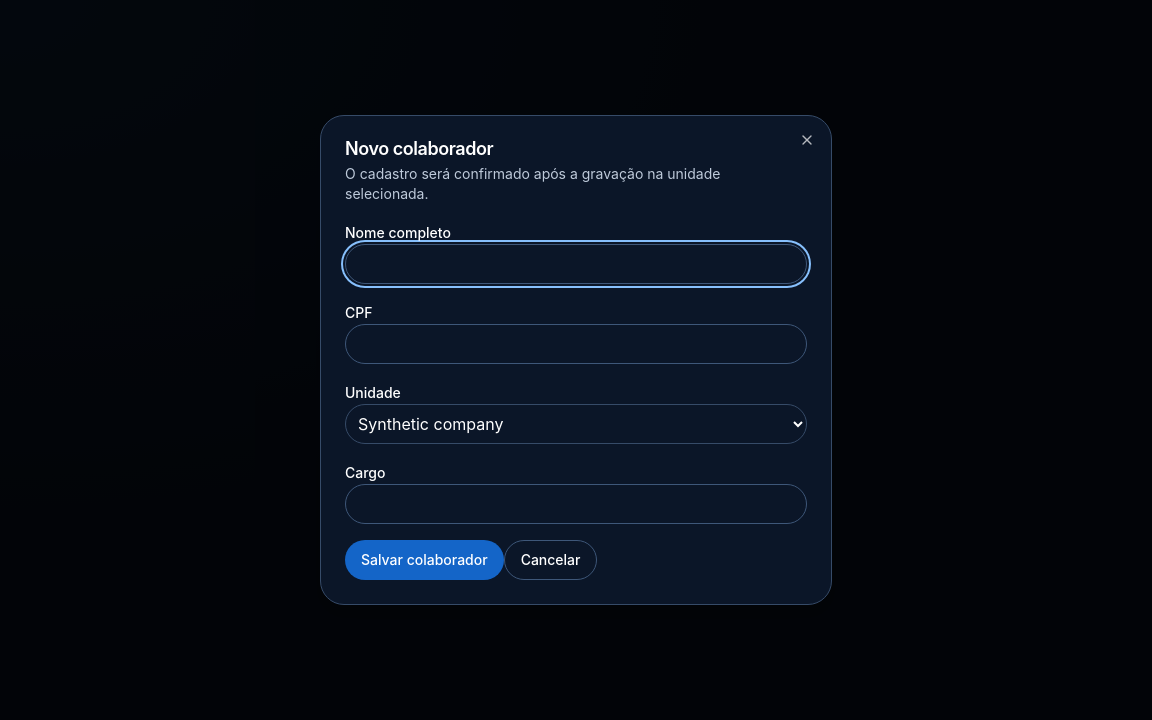
Test: rejects repeated-digit CPF before persistence
In the field with id "employee-name": (576, 264) [345,244,807,284], type "Pessoa sintética"
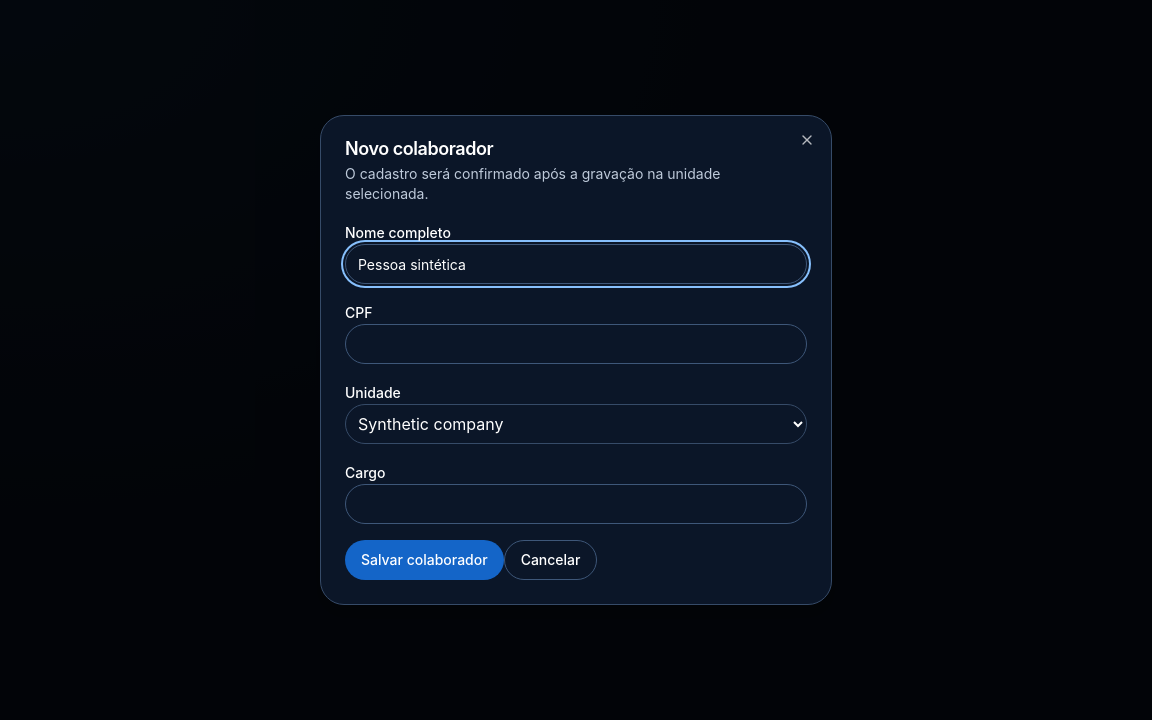
In the field with id "employee-job": (576, 504) [345,484,807,524], type "Assistente"
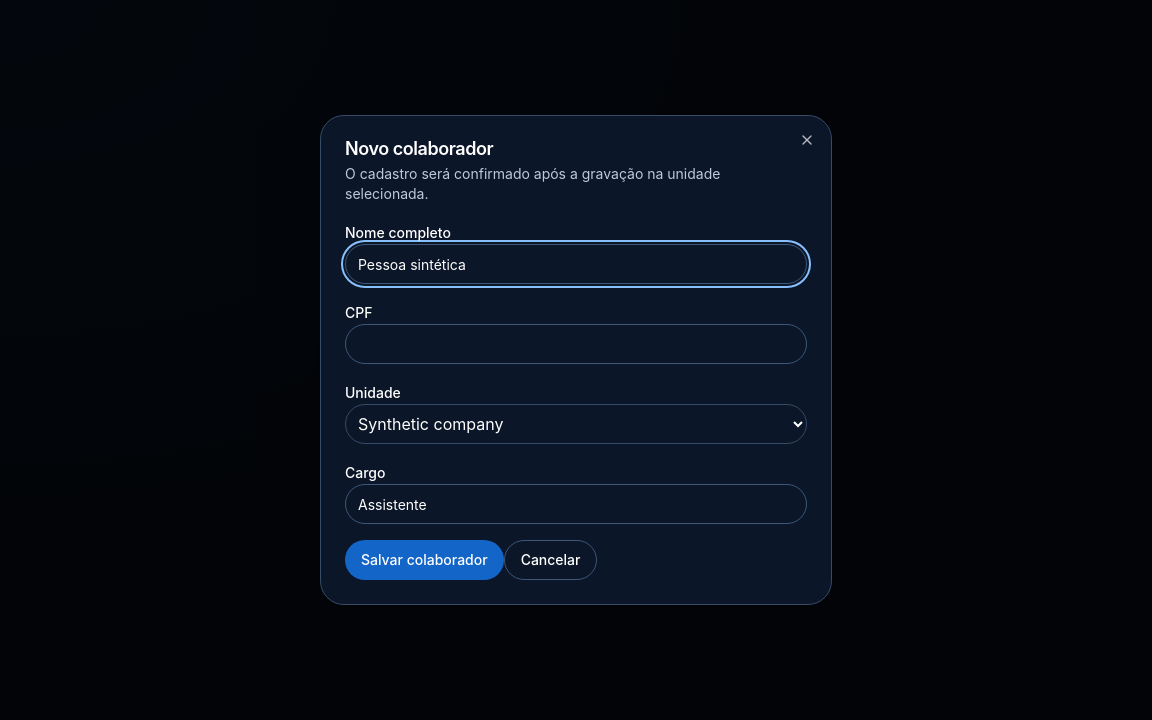
In the field with id "employee-cpf": (576, 344) [345,324,807,364], type "00000000000"
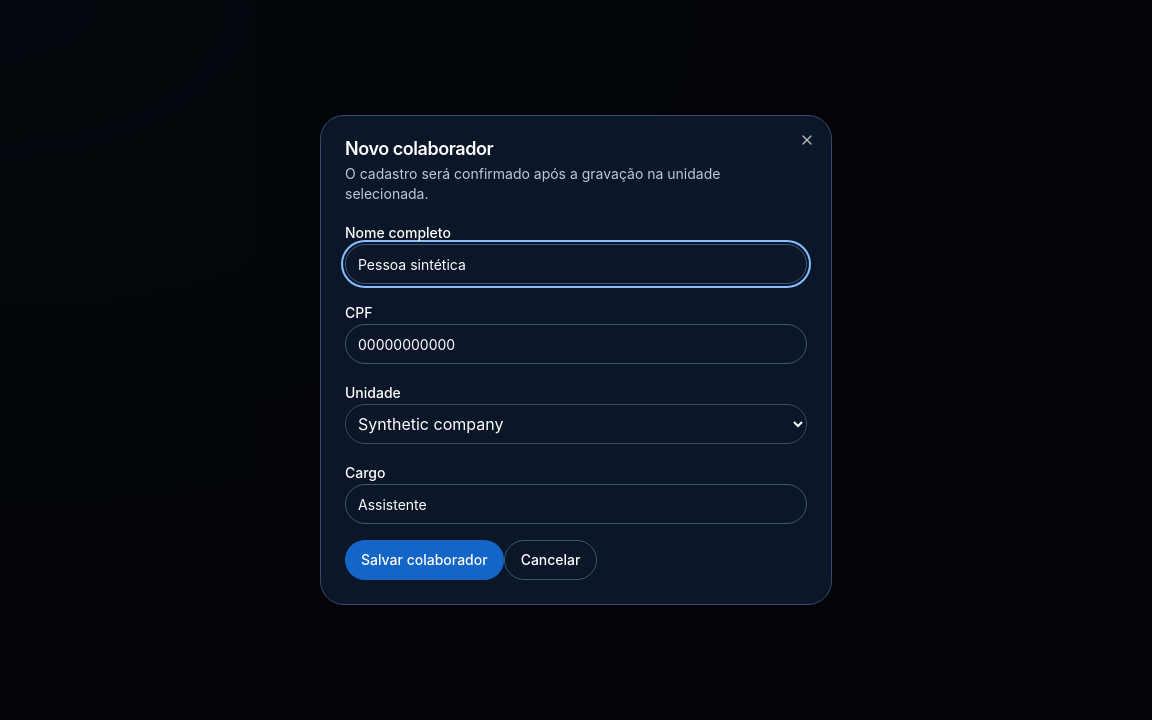
Submit the form, box [345,220,807,580]
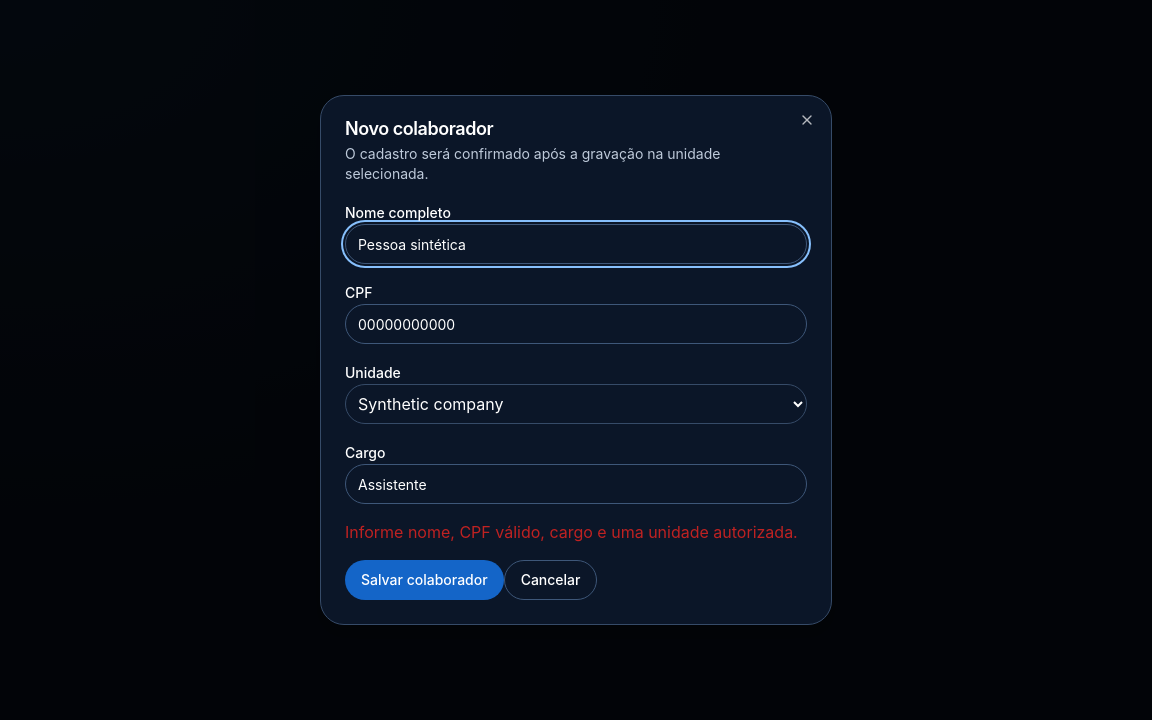
Expected: the message "Informe nome, CPF válido, cargo e uma unidade autorizada." is shown, [345,520,807,544]
